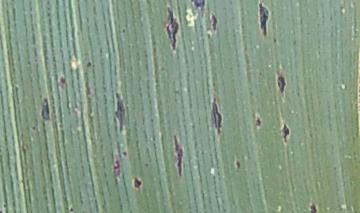tarspot: (164, 5, 181, 54), (209, 95, 223, 137), (172, 133, 185, 178), (113, 91, 125, 134), (257, 1, 270, 39), (275, 71, 287, 100), (279, 121, 291, 146), (112, 155, 122, 185), (189, 1, 206, 18), (40, 97, 51, 122), (208, 11, 220, 33), (132, 175, 143, 190), (57, 75, 66, 89), (254, 114, 261, 129), (308, 203, 318, 213), (234, 159, 241, 171), (121, 150, 129, 158), (85, 60, 92, 68), (30, 125, 36, 132), (68, 207, 75, 213), (120, 28, 126, 33), (144, 162, 150, 167), (272, 37, 277, 43), (2, 202, 7, 208)
